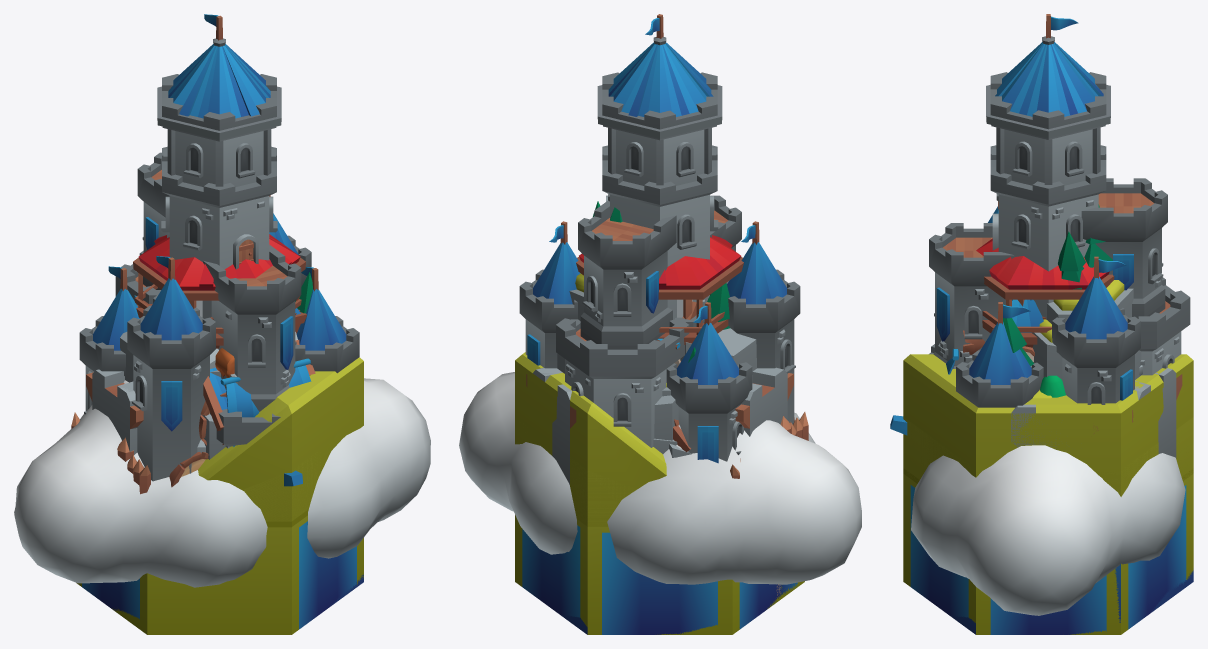
The model's file is tablero.glb.
3 renders of one model, left to right at view 1: azimuth 30°, elevation 25°; view 2: azimuth 150°, elevation 25°; view 3: azimuth 270°, elevation 25°, orthographic.
Parts seen in each view (by area): view 1: building_castle_blue, cloud_big, hex_grass_sloped_high, hex_river_B, hex_river_I, building_tower_B_top_red, hex_grass_sloped_low, hex_river_crossing_A, wall_corner_A_inside, ship_blue_full, building_watermill_blue, mountain_C (+4 smaller); view 2: building_castle_blue, cloud_big, hex_grass_sloped_high, hex_river_I, hex_river_B, building_tower_B_top_red, wall_corner_A_inside, mountain_C, wall_corner_A_outside, hex_grass_sloped_low, hex_river_crossing_A, mountain_B_grass_trees (+3 smaller); view 3: building_castle_blue, cloud_big, hex_grass_sloped_high, hex_river_B, building_tower_B_top_red, hex_river_crossing_B, hex_river_I, hex_grass_sloped_low, mountain_B_grass_trees, hex_river_crossing_A, mountain_B, wall_corner_A_inside (+5 smaller).
Boxes of the visible parts, x1,y1,x2,y2 form: building_castle_blue: (79, 14, 359, 481); cloud_big: (14, 378, 430, 587); hex_grass_sloped_high: (198, 357, 363, 521); hex_river_B: (147, 515, 307, 634); hex_river_I: (292, 521, 363, 634); building_tower_B_top_red: (133, 234, 305, 348); hex_grass_sloped_low: (242, 452, 320, 521); hex_river_crossing_A: (77, 573, 147, 623); wall_corner_A_inside: (92, 369, 143, 454); ship_blue_full: (134, 295, 311, 486); building_watermill_blue: (203, 339, 315, 444); mountain_C: (120, 332, 237, 459); building_castle_blue: (519, 14, 800, 463); cloud_big: (459, 372, 861, 584); hex_grass_sloped_high: (515, 352, 666, 526); hex_river_I: (587, 527, 732, 634); hex_river_B: (515, 515, 609, 626); building_tower_B_top_red: (576, 235, 743, 344); wall_corner_A_inside: (526, 373, 793, 484); mountain_C: (654, 328, 756, 440); wall_corner_A_outside: (536, 368, 787, 473); hex_grass_sloped_low: (515, 423, 634, 526); hex_river_crossing_A: (733, 581, 799, 630); mountain_B_grass_trees: (575, 201, 730, 362); building_castle_blue: (929, 14, 1190, 407); cloud_big: (911, 445, 1185, 615); hex_grass_sloped_high: (903, 354, 1193, 614); hex_river_B: (910, 474, 1193, 634); building_tower_B_top_red: (976, 238, 1114, 347); hex_river_crossing_B: (976, 568, 1120, 634); hex_river_I: (903, 474, 975, 622); hex_grass_sloped_low: (903, 417, 1193, 620); mountain_B_grass_trees: (1003, 204, 1124, 398); hex_river_crossing_A: (1061, 569, 1119, 634); mountain_B: (1032, 288, 1141, 379); wall_corner_A_inside: (1132, 368, 1176, 456).
Bounding box in the file's own units: 3.61 × 4.98 × 2.41.
3 materials, 3 textured.
